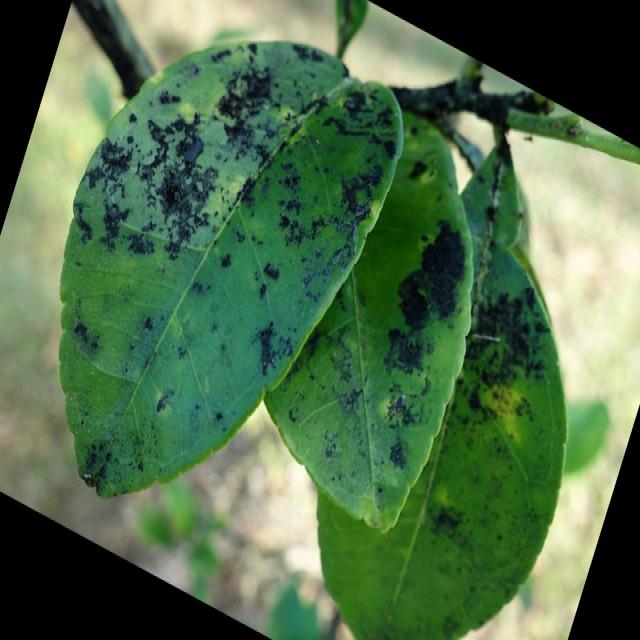Sooty Mold: (118, 44, 575, 559)
